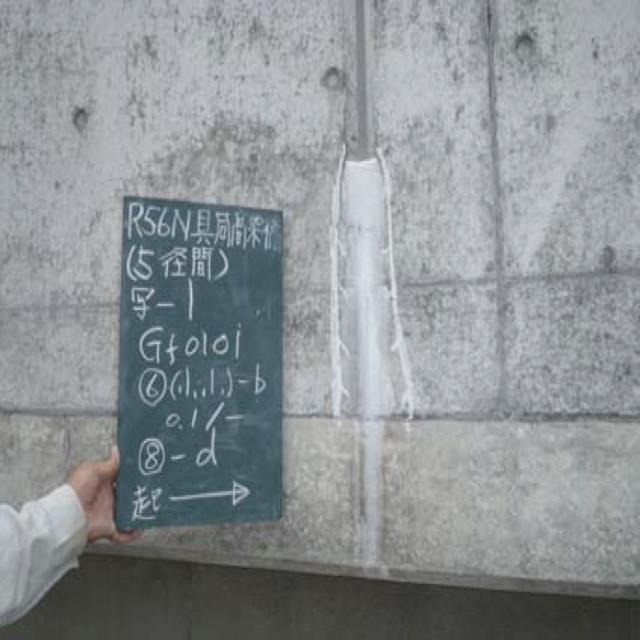freelime: (329, 150, 410, 577)
